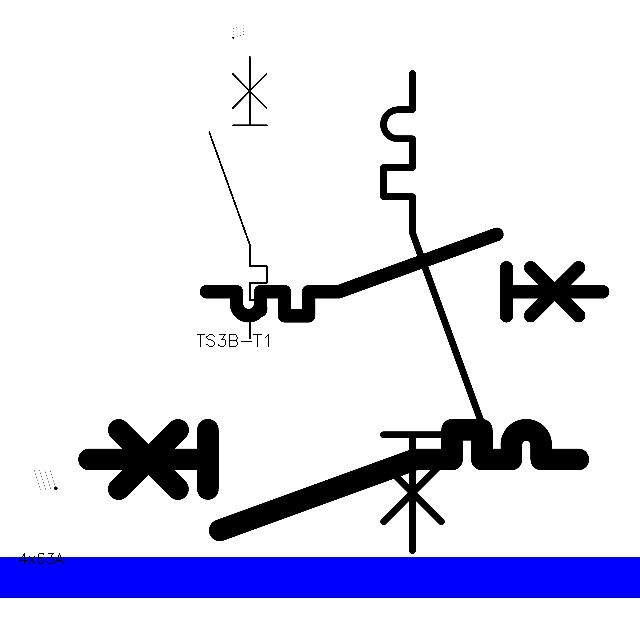interruptor_termomagnetico: (76, 417, 591, 543), (371, 61, 494, 563), (196, 224, 612, 326), (202, 49, 274, 346)
